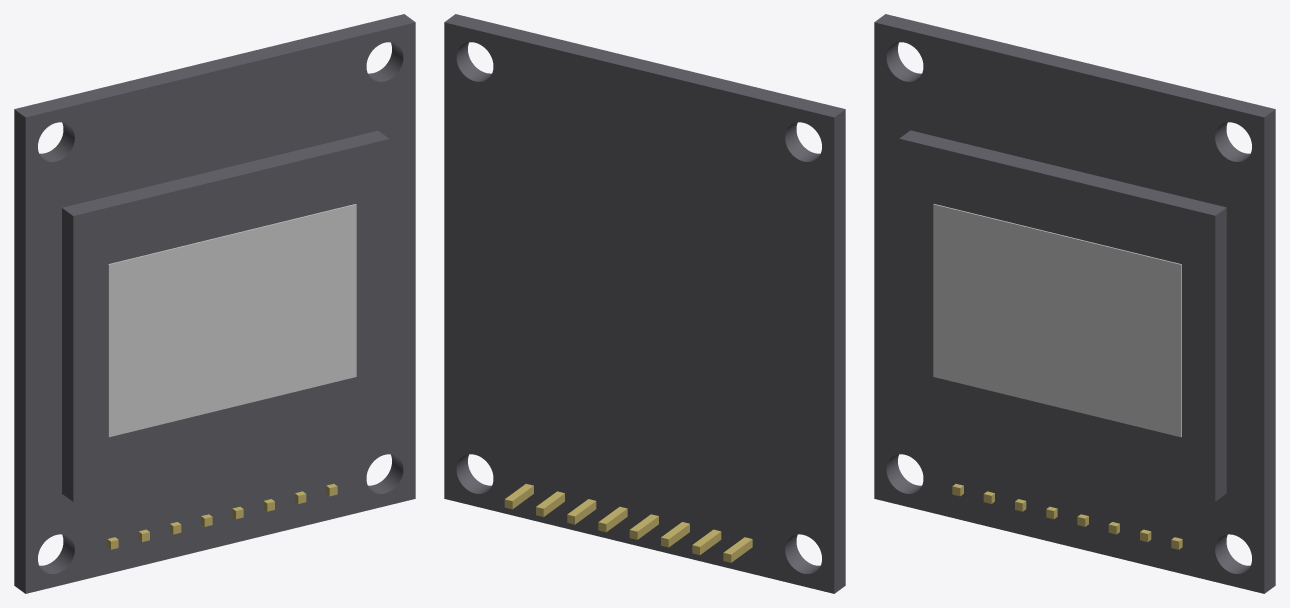
Rendered from ssd1331_module_095.glb.
3 renders of one model, left to right at view 1: azimuth 30°, elevation 25°; view 2: azimuth 150°, elevation 25°; view 3: azimuth 330°, elevation 25°, orthographic.
Parts seen in each view (by area): view 1: extra, housing, pins; view 2: extra, pins; view 3: extra, housing, pins.
Boxes of the visible parts, left/top/right/bottom form: extra: left=14, top=14, right=415, bottom=593; housing: left=108, top=204, right=356, bottom=437; pins: left=107, top=484, right=337, bottom=549; extra: left=444, top=14, right=845, bottom=593; pins: left=504, top=484, right=752, bottom=562; extra: left=874, top=14, right=1275, bottom=593; housing: left=933, top=204, right=1181, bottom=437; pins: left=952, top=484, right=1182, bottom=549.
Bounding box in the file's own units: 31.7 × 37 × 6.3.
